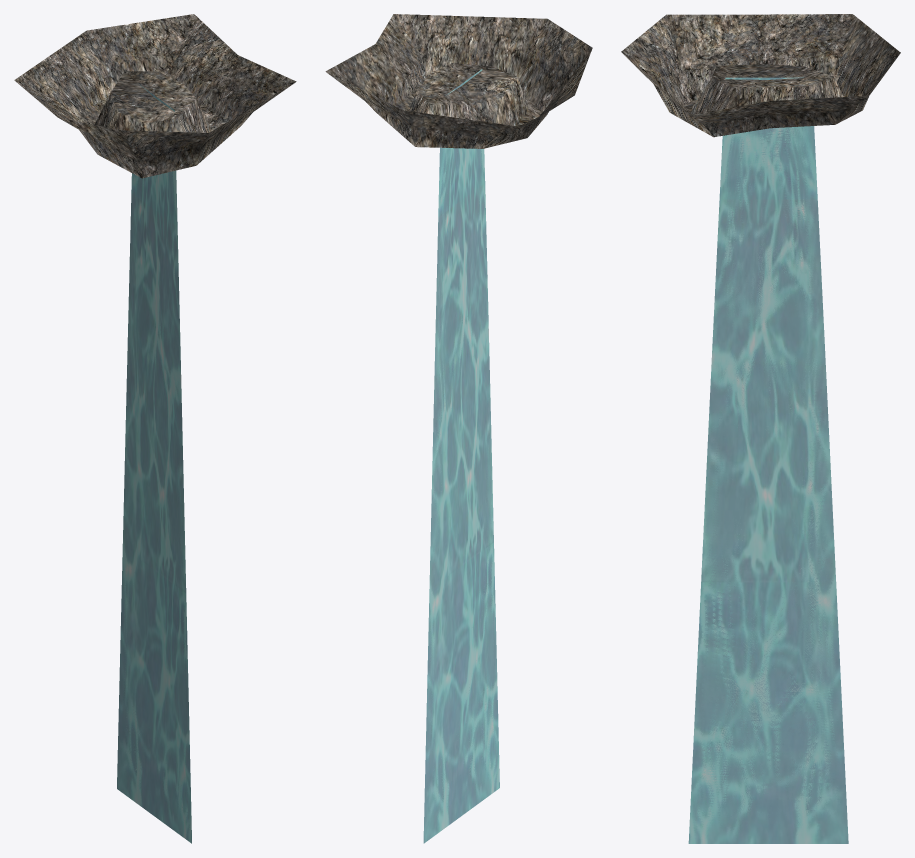
Rendered from pir_m_prp_cav_waterfall_single.fbx.
3 renders of one model, left to right at view 1: azimuth 30°, elevation 25°; view 2: azimuth 150°, elevation 25°; view 3: azimuth 270°, elevation 25°, orthographic. The views are drawn at different scales.
Parts seen in each view (by area): view 1: waterfall, rock; view 2: waterfall, rock; view 3: waterfall, rock.
Part boxes in pixels (x1,y1,x2,y2): waterfall: [117, 83, 191, 843]; rock: [14, 14, 296, 178]; waterfall: [423, 69, 499, 843]; rock: [325, 14, 592, 148]; waterfall: [688, 77, 848, 843]; rock: [621, 14, 900, 137].
Size of the model in its own units: 2830 by 9671 by 3093.
Materials: 2 (2 with a texture image).
